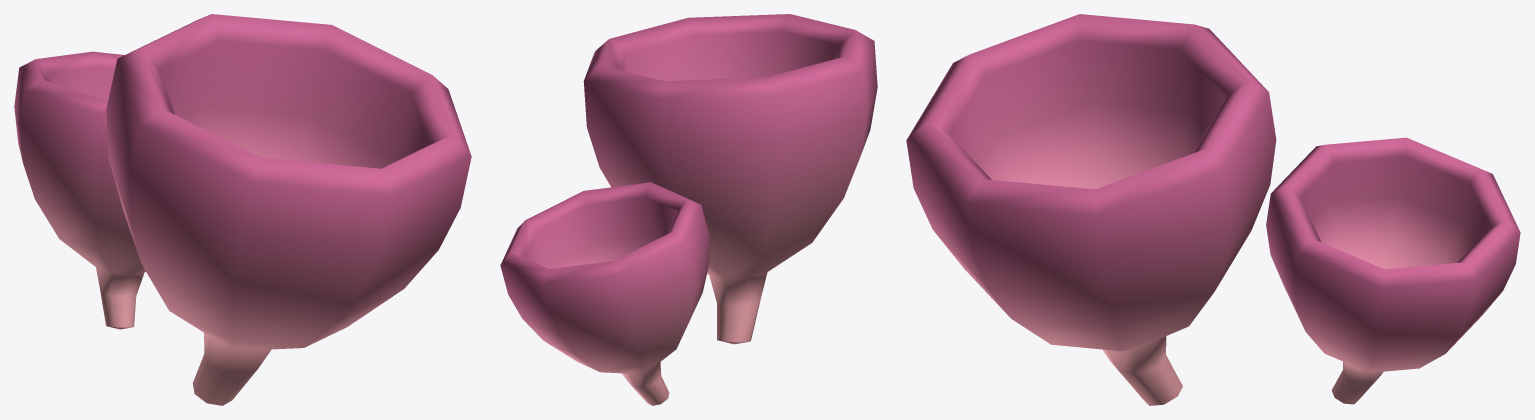
File: mushrooms12.fbx
The picture shows the model from 3 angles, left to right: view 1: azimuth 30°, elevation 25°; view 2: azimuth 150°, elevation 25°; view 3: azimuth 270°, elevation 25°; orthographic projection. The views are drawn at different scales.
Parts seen in each view (by area): view 1: mushrooms12; view 2: mushrooms12; view 3: mushrooms12.
Part boxes in pixels (x1,y1,x2,y2): mushrooms12: [14, 14, 471, 405]; mushrooms12: [500, 14, 877, 405]; mushrooms12: [906, 14, 1520, 405].
Size of the model in its own units: 334 by 347 by 554.
1 material, 1 textured.
